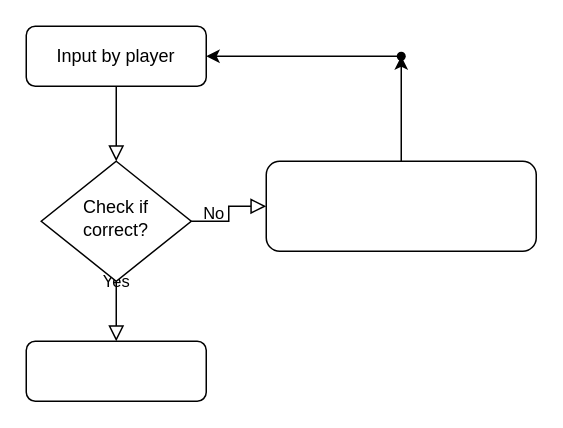
Some shapes in this 563 by 428 pixel diagram are drawn without their labels. Here are the shapes that lost their labels. From the top down, the box of each, then its label:
(265, 160, 536, 251): Display if number is bigger or smaller then answer
(25, 340, 206, 401): You win
